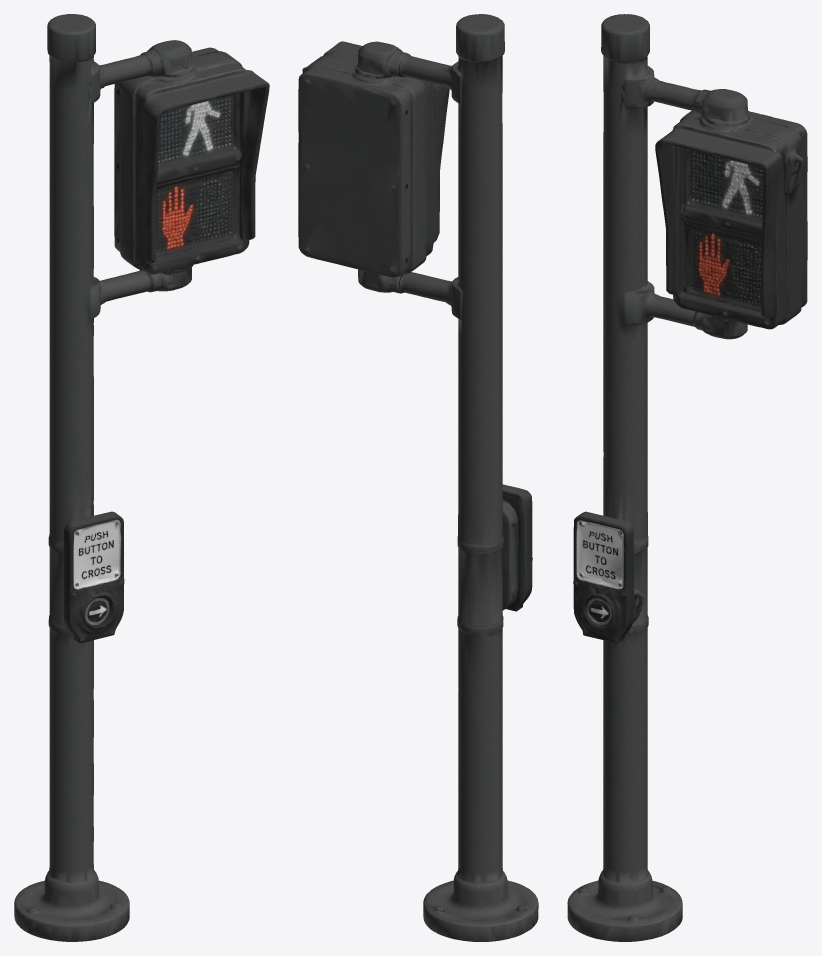
Rendered from psignal.glb.
3 renders of one model, left to right at view 1: azimuth 30°, elevation 25°; view 2: azimuth 150°, elevation 25°; view 3: azimuth 330°, elevation 25°, orthographic.
Visible parts, largest first — view 1: mesh_node; view 2: mesh_node; view 3: mesh_node.
Boxes of the visible parts, x1=… form: mesh_node: x1=14, y1=14, x2=269, y2=941; mesh_node: x1=298, y1=14, x2=538, y2=941; mesh_node: x1=567, y1=14, x2=807, y2=941.
Bounding box in the file's own units: 0.5117 × 1.9 × 0.2231.
1 material, 1 textured.
